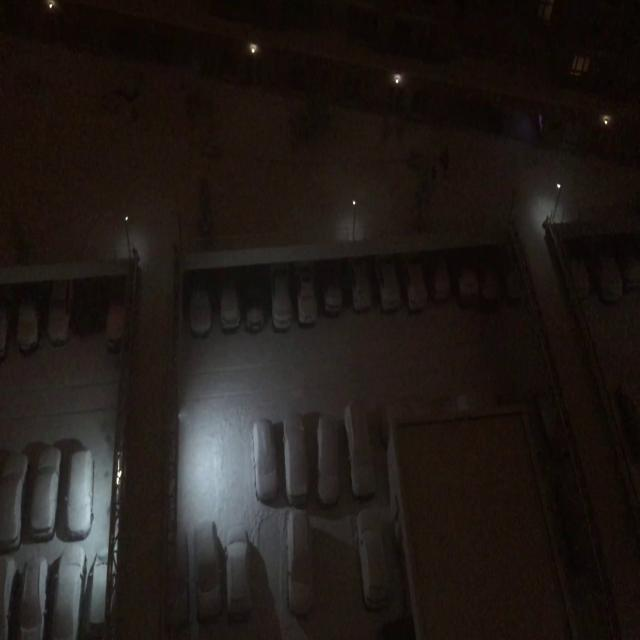vehicle: (188, 517, 228, 626), (284, 504, 317, 616), (356, 508, 391, 610), (51, 542, 88, 636), (29, 442, 61, 542), (343, 403, 376, 498), (0, 448, 29, 550), (282, 404, 310, 504), (64, 448, 95, 534), (316, 411, 344, 506), (224, 532, 251, 620), (252, 418, 278, 503), (597, 240, 625, 306), (102, 288, 130, 352), (47, 278, 73, 346), (374, 255, 401, 313), (401, 255, 428, 313), (247, 266, 270, 334), (16, 294, 42, 354), (90, 546, 108, 632), (294, 262, 318, 326), (270, 264, 292, 332), (174, 522, 188, 628), (189, 275, 212, 337), (347, 256, 372, 313), (570, 252, 594, 306), (320, 262, 343, 318), (218, 280, 240, 332), (428, 250, 450, 302), (458, 259, 473, 309), (481, 261, 496, 308), (0, 298, 10, 359)
